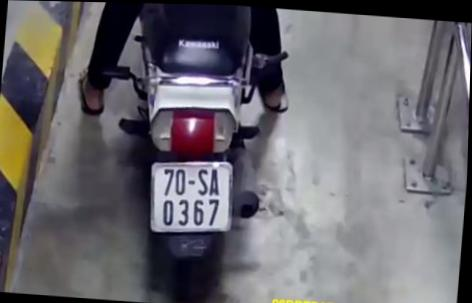LP: (146, 154, 238, 238)
